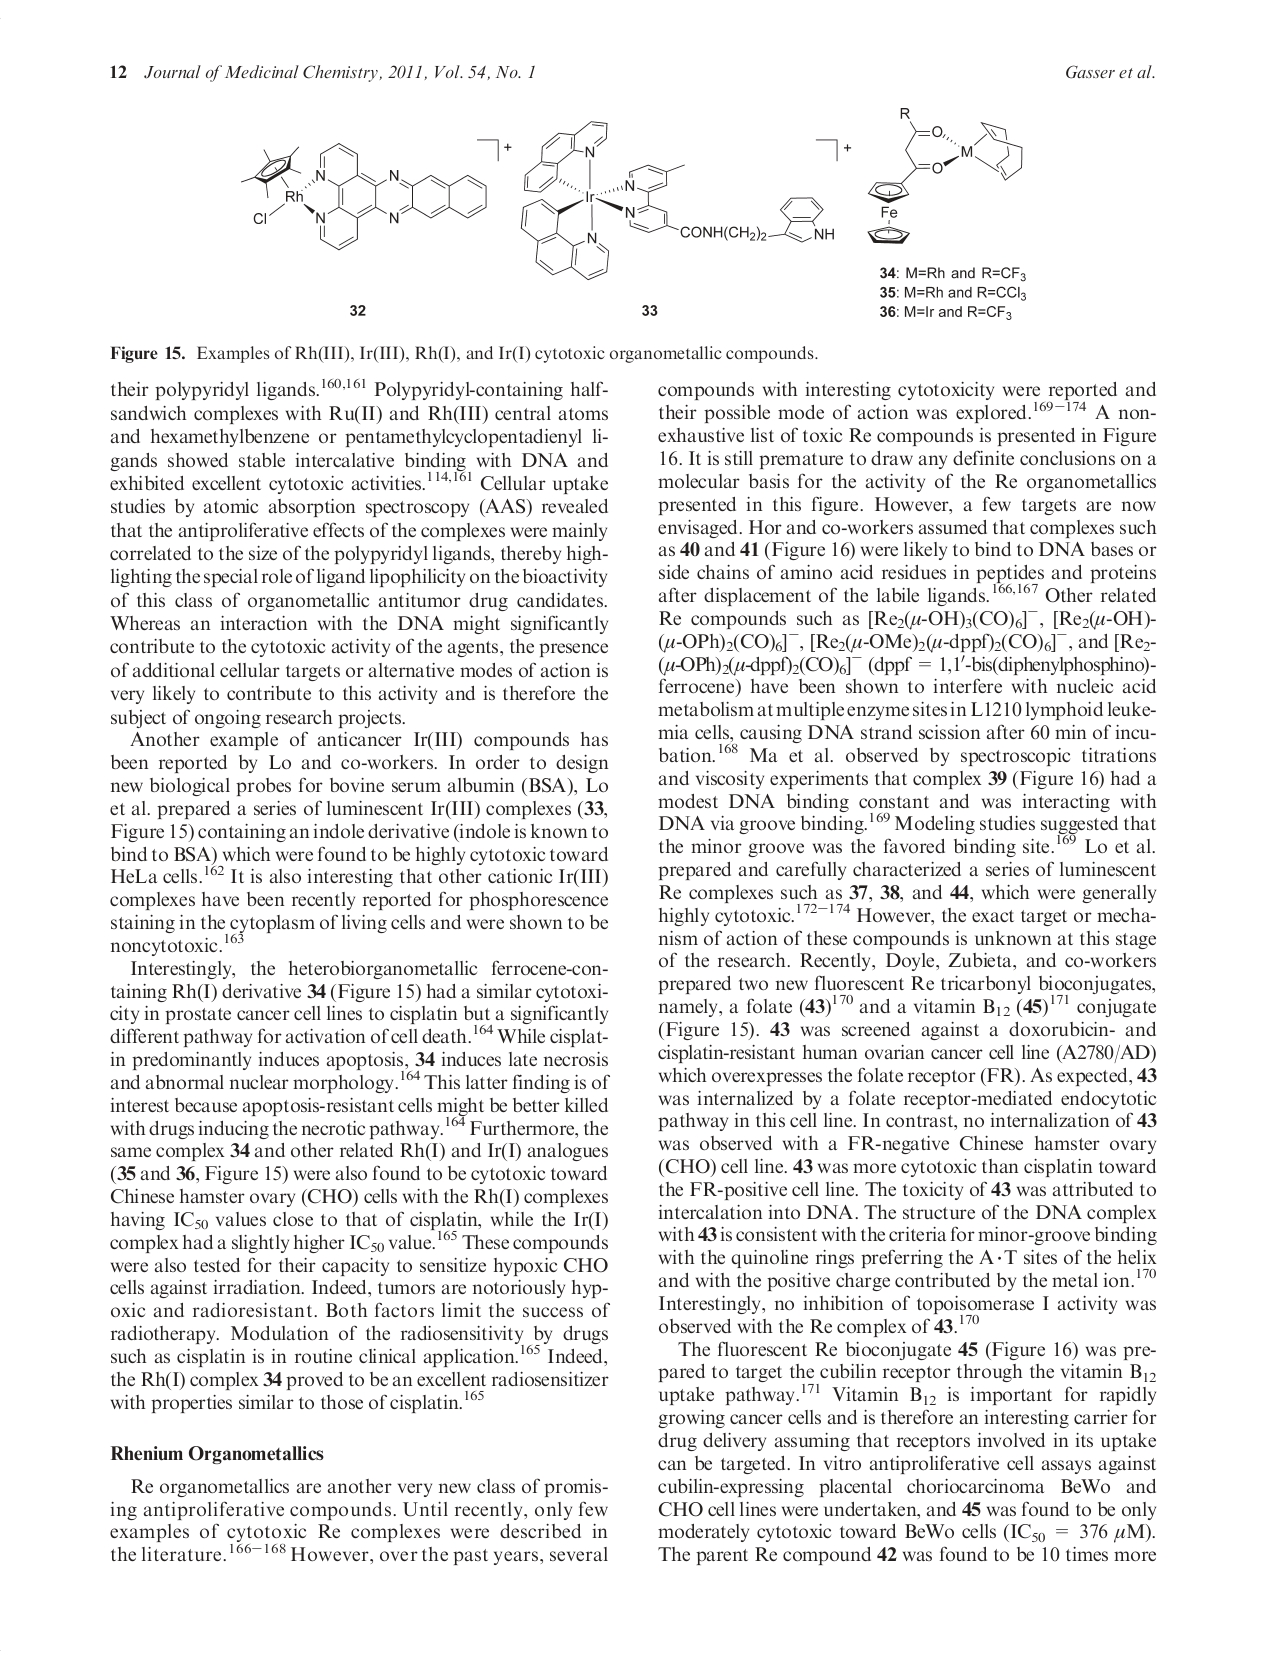exist_molecular: (519, 118, 836, 281), (235, 140, 492, 254), (866, 102, 1027, 250)
